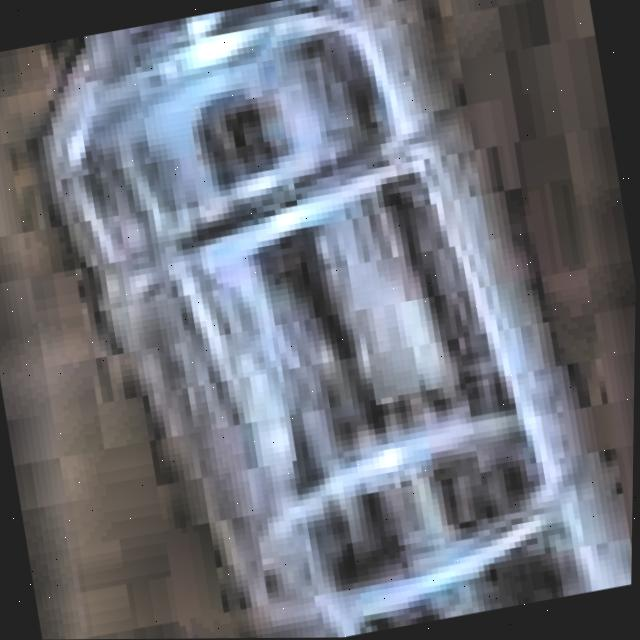plastic: (32, 0, 640, 640)
